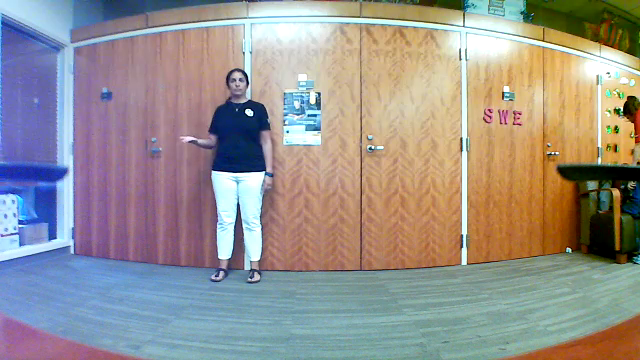land: (171, 130, 202, 148)
